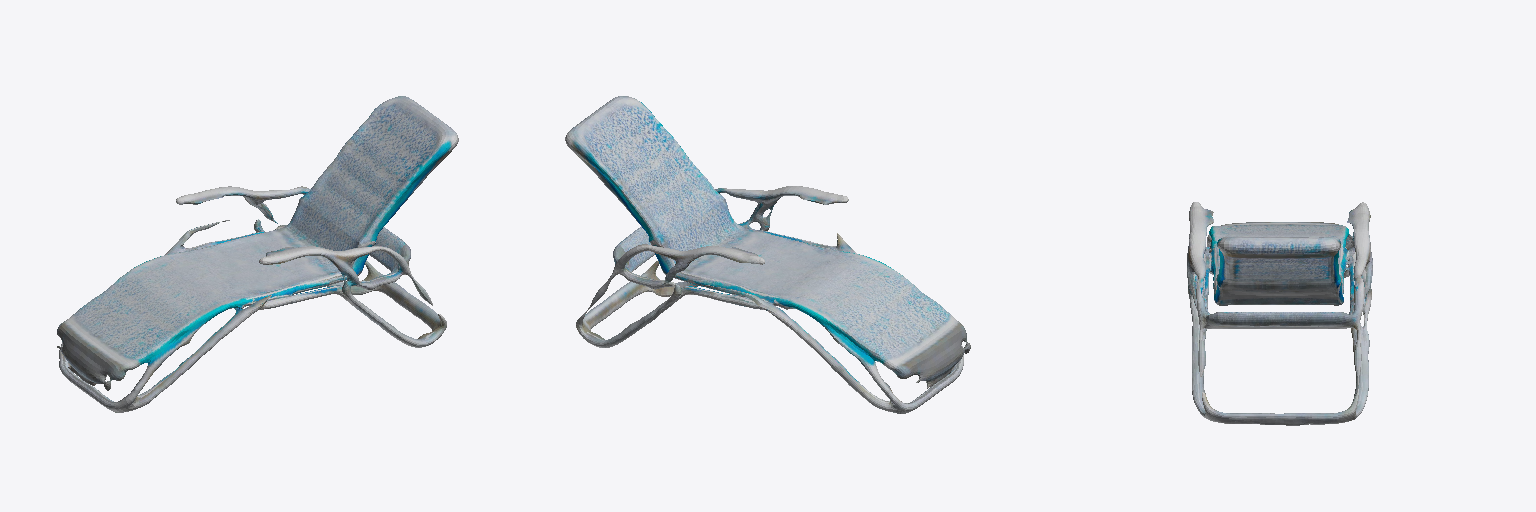
The picture shows the model from 3 angles: view 1: azimuth 30°, elevation 25°; view 2: azimuth 150°, elevation 25°; view 3: azimuth 270°, elevation 25°; orthographic projection.
Visible parts, largest first — view 1: mesh; view 2: mesh; view 3: mesh.
Part boxes in pixels (x1,y1,x2,y2): mesh: (57,96,458,412); mesh: (565,96,970,413); mesh: (1187,202,1372,425).
Bounding box in the file's own units: 0.9999 × 0.5426 × 0.4517.
Materials: 1 (1 with a texture image).